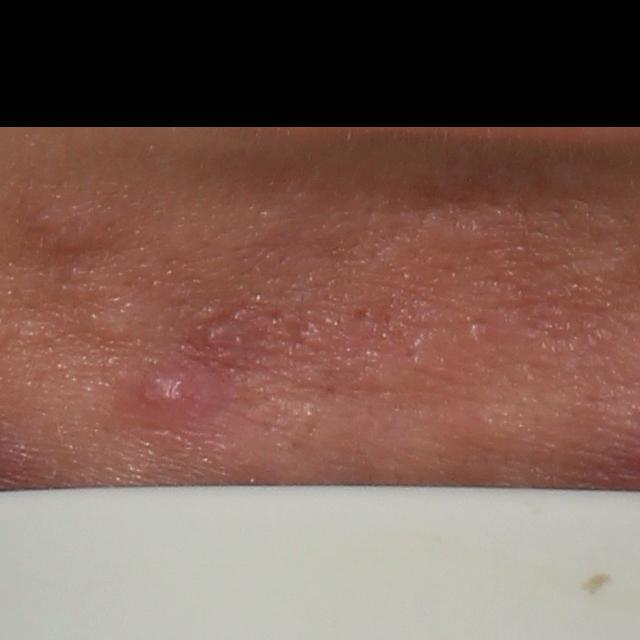hypertrophic_scar: (28, 197, 125, 258), (410, 206, 495, 254), (83, 306, 145, 343)
